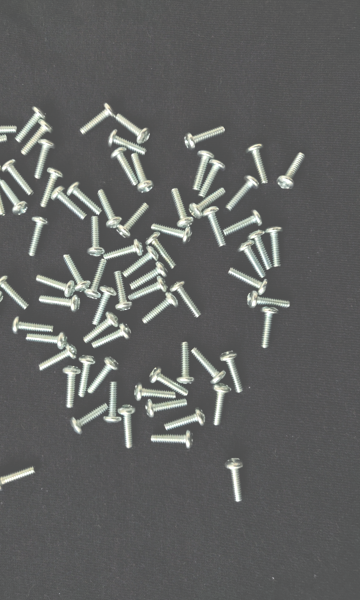shortscrew: (192, 347, 227, 385), (87, 356, 120, 395), (144, 231, 176, 270), (67, 181, 103, 215), (117, 203, 151, 239), (50, 186, 87, 219), (142, 292, 180, 324), (70, 403, 109, 434), (149, 366, 189, 396), (84, 311, 121, 343), (170, 281, 201, 319), (39, 342, 79, 371), (81, 102, 117, 134), (123, 246, 159, 278), (199, 158, 227, 199), (228, 268, 269, 296), (190, 188, 227, 219), (277, 152, 307, 190), (201, 206, 228, 248), (227, 176, 260, 210), (22, 120, 54, 155), (16, 107, 47, 142), (0, 275, 30, 311), (0, 180, 30, 216), (224, 209, 264, 236), (63, 255, 92, 292), (108, 130, 149, 156), (92, 323, 133, 349), (130, 262, 168, 290), (238, 241, 266, 279), (116, 115, 151, 145), (111, 147, 137, 187), (220, 350, 244, 393), (185, 126, 226, 151), (98, 190, 123, 230), (248, 230, 273, 270), (41, 167, 65, 208), (131, 153, 155, 194), (93, 285, 117, 325), (246, 143, 268, 186), (225, 459, 246, 504), (193, 149, 216, 190), (151, 224, 195, 245), (36, 275, 76, 298), (145, 398, 188, 419), (172, 188, 194, 229), (0, 466, 36, 491), (86, 260, 108, 300), (28, 216, 49, 257), (35, 139, 56, 179), (88, 216, 108, 257), (212, 384, 232, 425), (113, 272, 133, 313), (105, 239, 144, 260), (151, 430, 194, 449), (247, 291, 290, 310), (77, 355, 96, 398), (134, 383, 176, 402), (118, 405, 136, 449), (63, 365, 81, 409), (11, 316, 54, 334), (261, 306, 279, 349), (26, 332, 68, 350), (177, 342, 195, 384), (266, 226, 284, 267), (39, 295, 82, 312), (104, 381, 121, 423), (0, 122, 17, 139), (0, 175, 6, 217), (0, 135, 8, 154), (0, 277, 3, 307), (0, 153, 2, 176)
